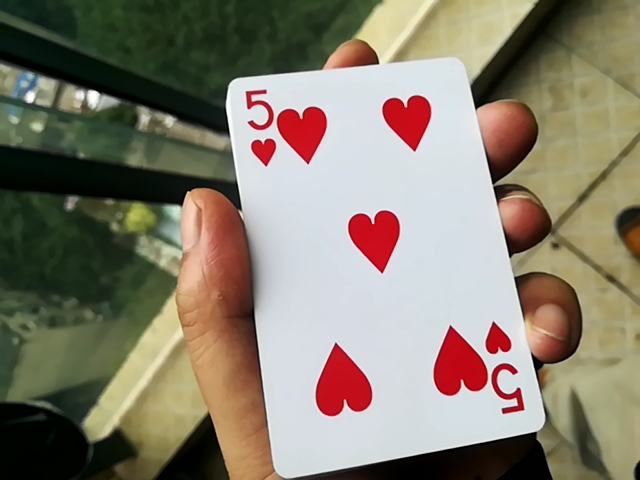hx 5: (208, 57, 550, 478)
